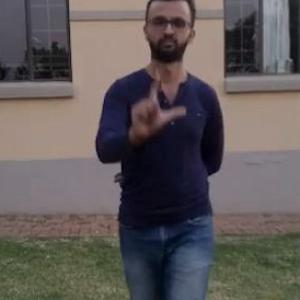land_hand: (123, 63, 190, 138)
